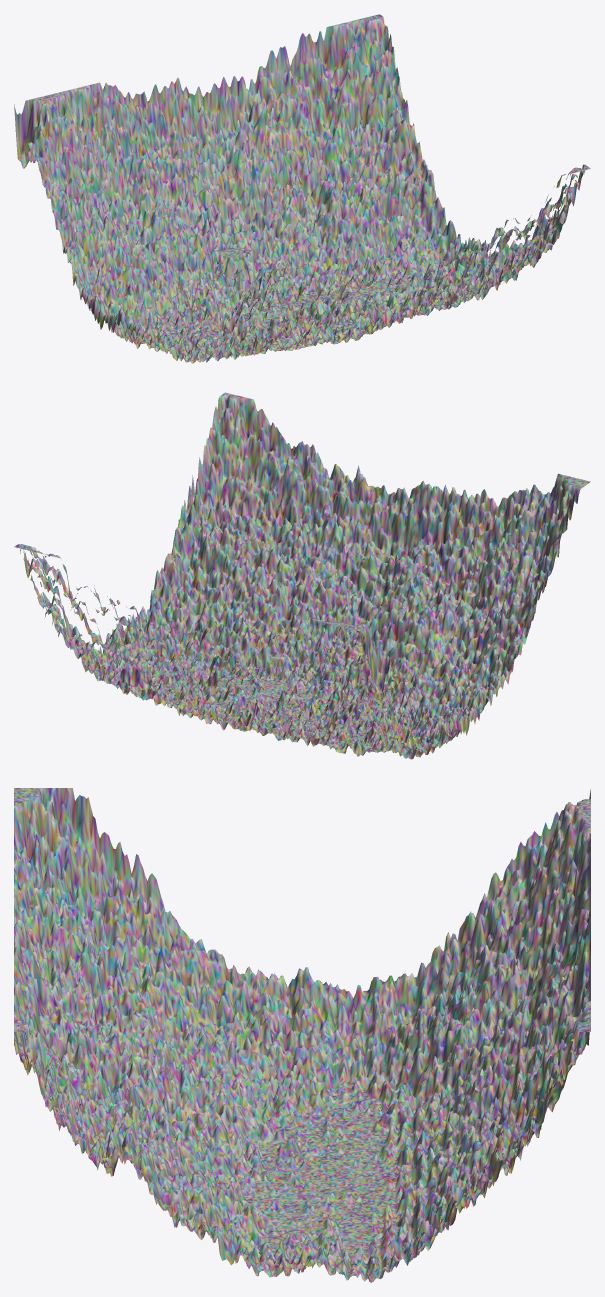
Rendered from dsm_87625952e3_mesh.glb.
3 views of the same model, one above another, from view 1: azimuth 30°, elevation 25°; view 2: azimuth 150°, elevation 25°; view 3: azimuth 270°, elevation 25° (orthographic). The views are drawn at different scales.
Visible parts, largest first — view 1: geometry_0; view 2: geometry_0; view 3: geometry_0.
Boxes of the visible parts, <box> form: geometry_0: <box>14,14,590,363</box>; geometry_0: <box>14,392,590,759</box>; geometry_0: <box>14,788,590,1282</box>.
Bounding box in the file's own units: 2 × 1 × 2.
